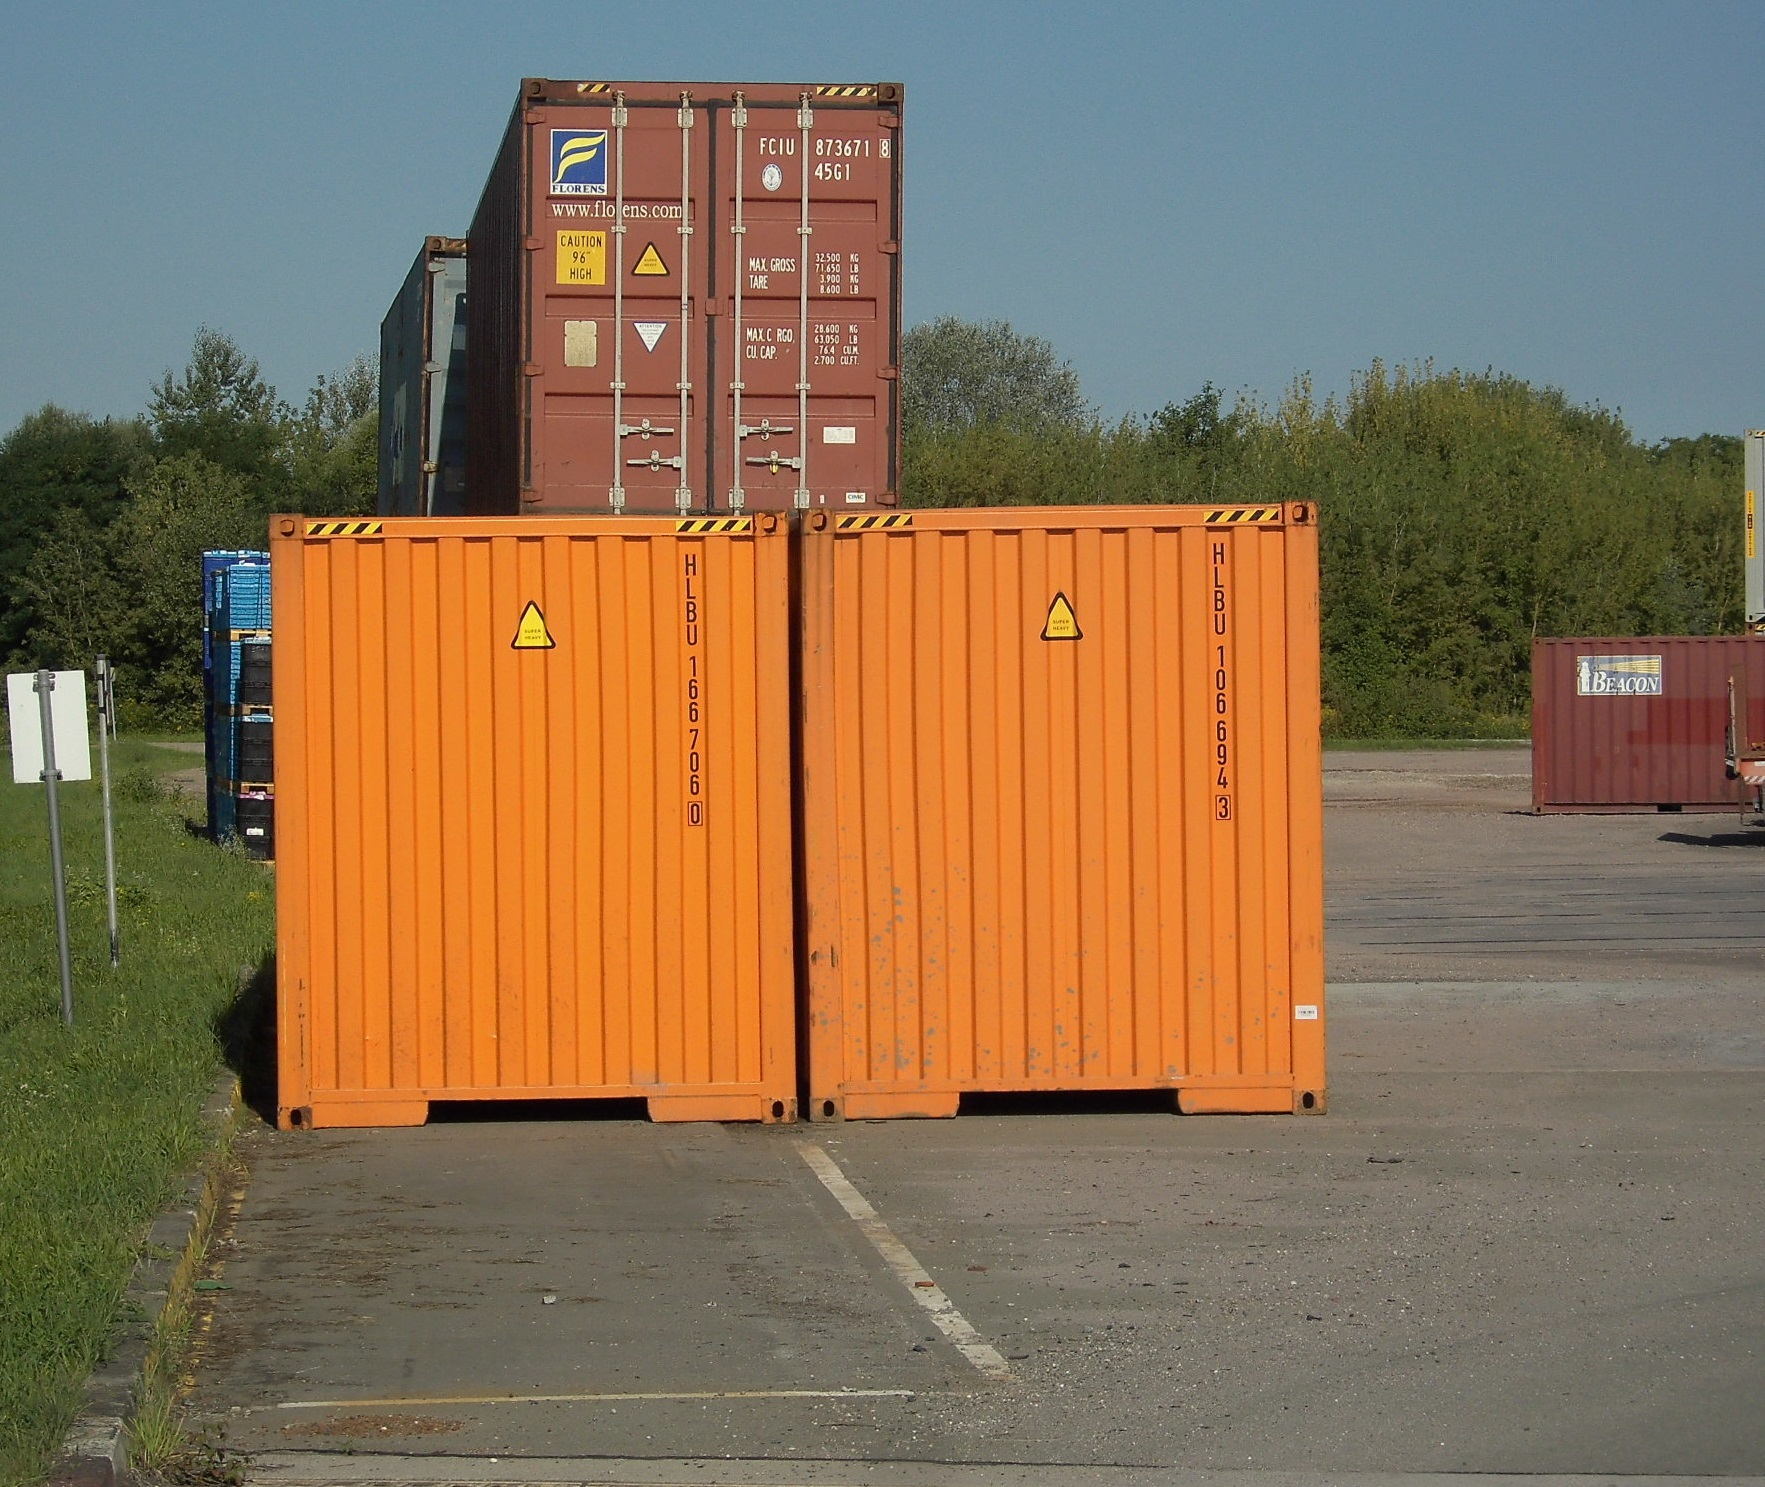container_door: (521, 74, 910, 505)
container_no_door: (260, 515, 805, 1123), (798, 505, 1343, 1112)
